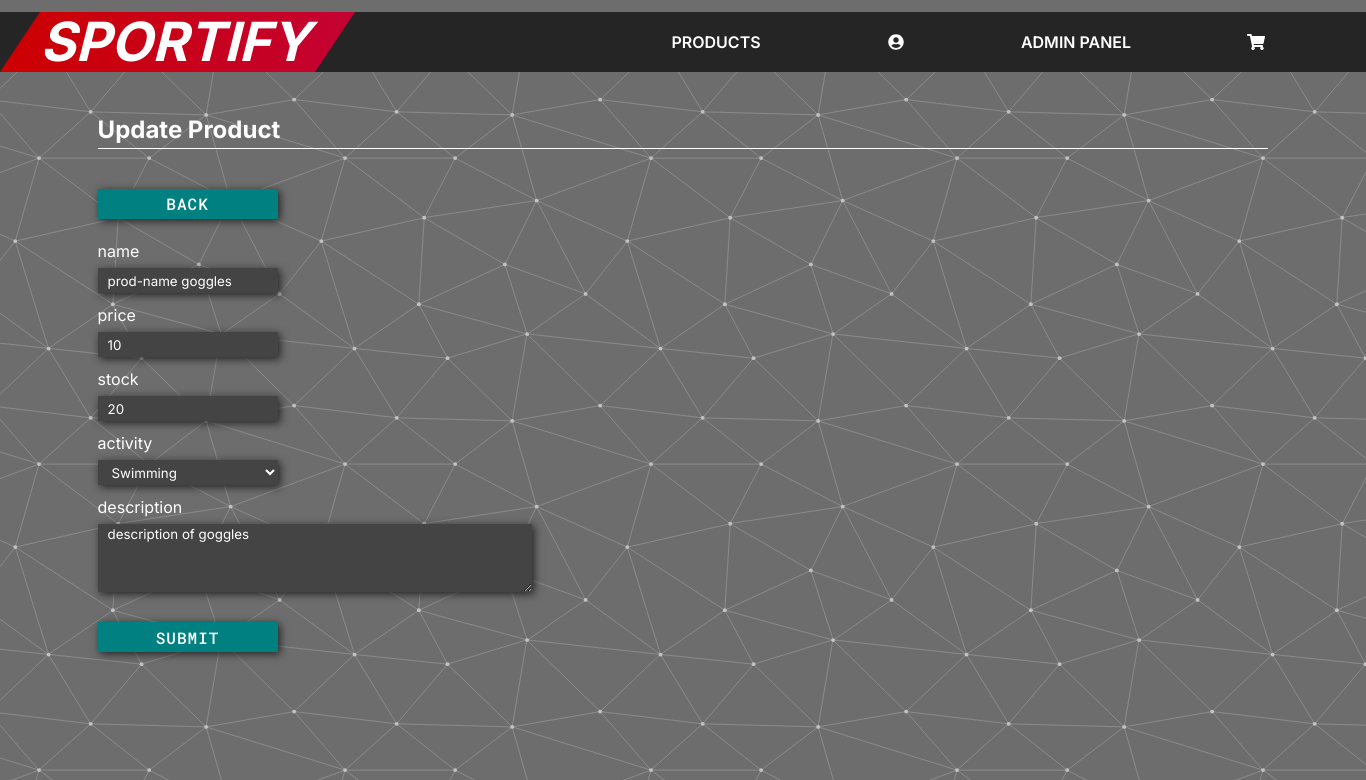
Scenario: update product form › updates product and redirect to admin panel
The width and height of the screenshot is (1366, 780).
Type "updated name" into the field labelled "name" at (188, 280), box [98,268,278,293]
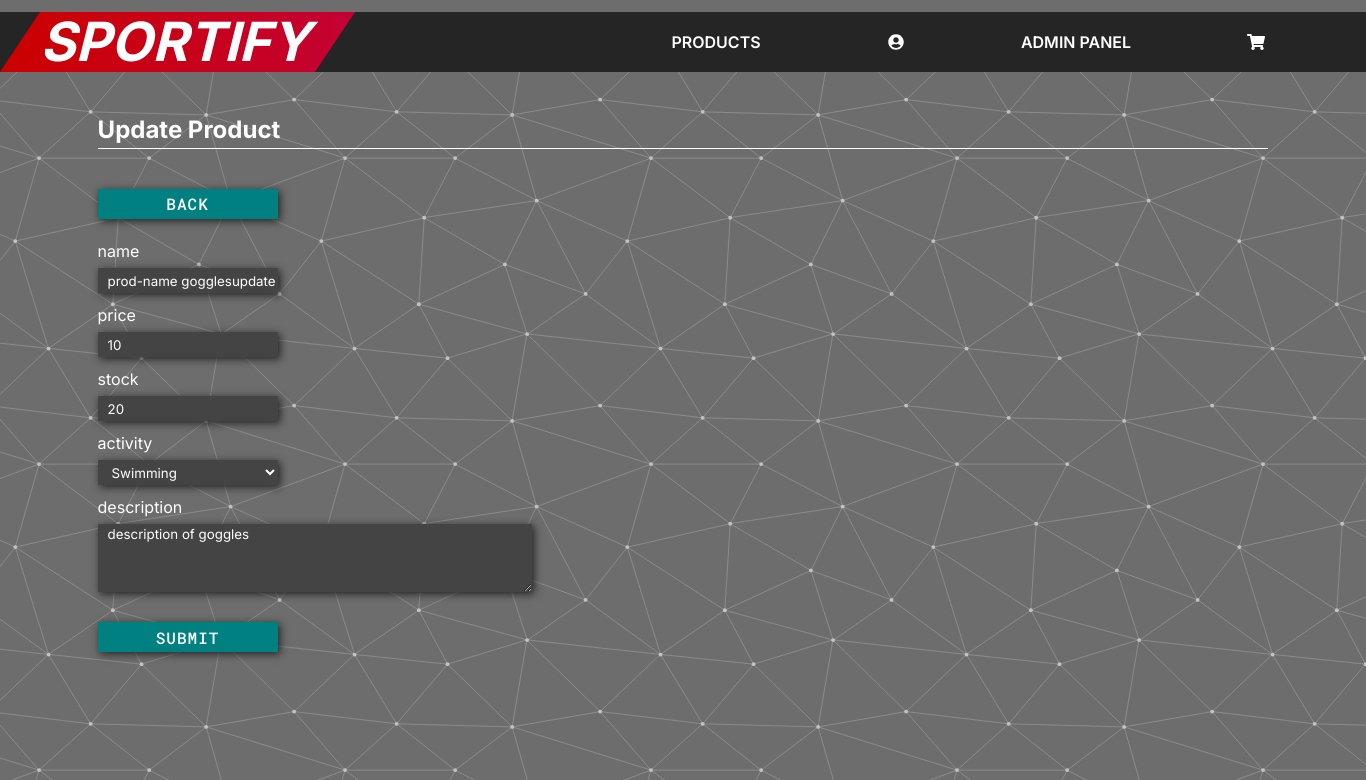
Click the button "Submit" at (188, 637), box [98,622,278,652]
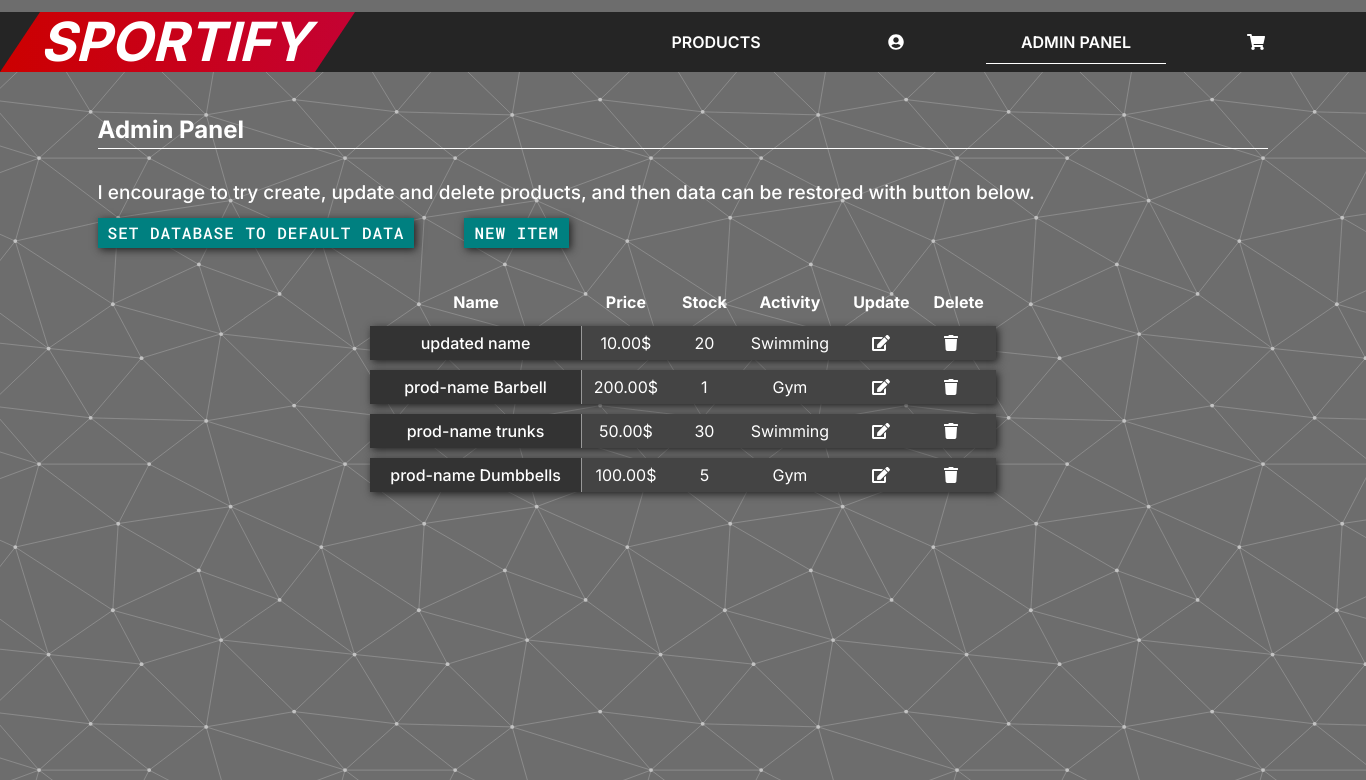
expect the heading "Admin Panel" is shown: met, box [98,112,1268,149]
expect the row "updated name 10.00$ 20 Swimming" is shown: met, box [370,326,996,360]
